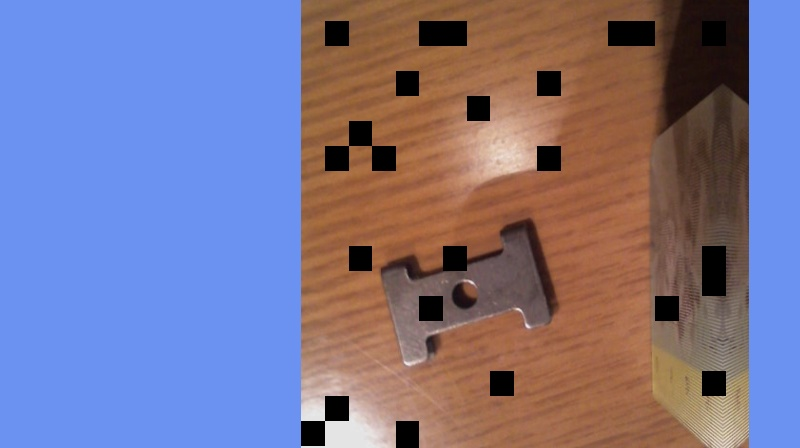O002: (378, 217, 554, 367)
